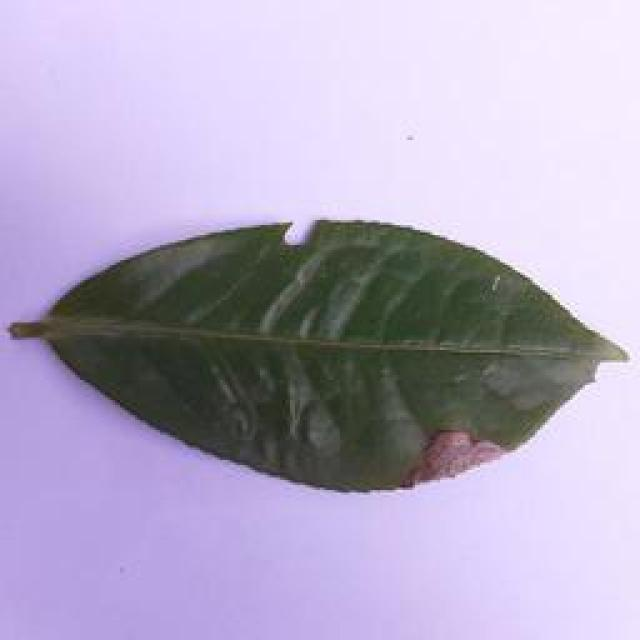Gray Blight: (6, 212, 626, 498)
